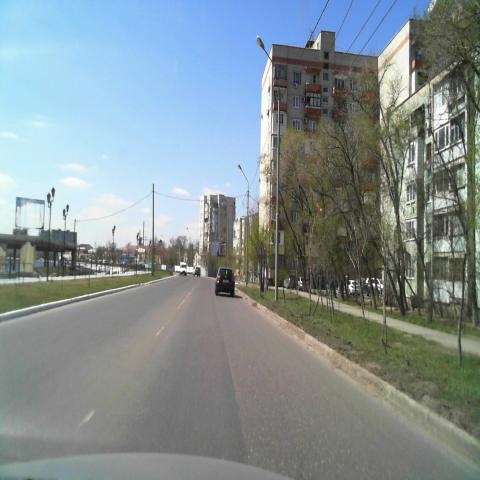1_11_1: (257, 242, 266, 256)
